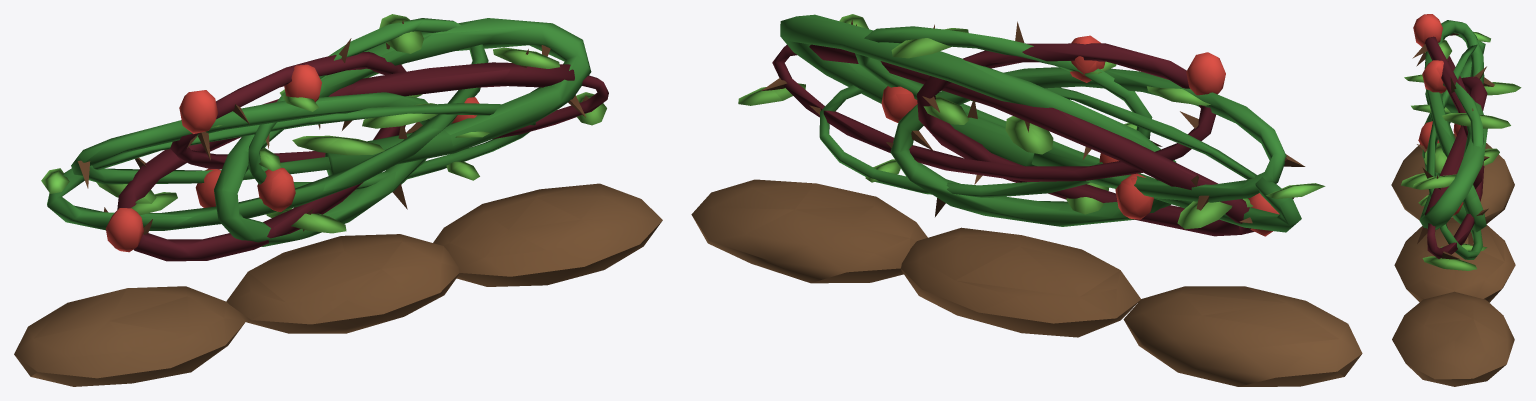
File: glade_bramble_knot_lod1.glb
The picture shows the model from 3 angles, left to right: view 1: azimuth 30°, elevation 25°; view 2: azimuth 150°, elevation 25°; view 3: azimuth 270°, elevation 25°; orthographic projection. The views are drawn at different scales.
Visible parts, largest first — view 1: glade_bramble_knot.001; view 2: glade_bramble_knot.001; view 3: glade_bramble_knot.001.
Part boxes in pixels (box(x1,y1,x2,y2)): glade_bramble_knot.001: box(14, 14, 662, 386); glade_bramble_knot.001: box(691, 14, 1362, 386); glade_bramble_knot.001: box(1391, 14, 1521, 386).
Bounding box in the file's own units: 9.22 × 4 × 2.18.
